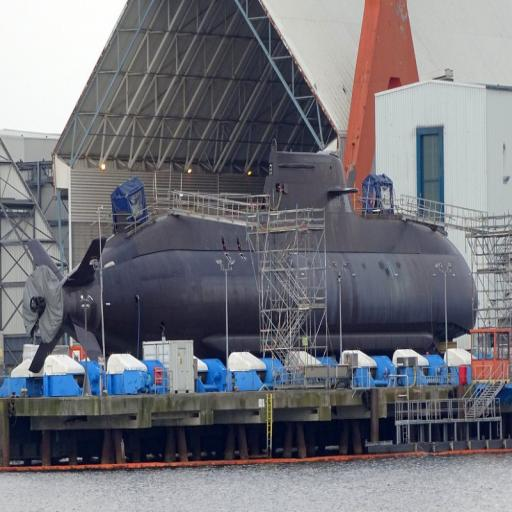submarine: (36, 141, 481, 370)
